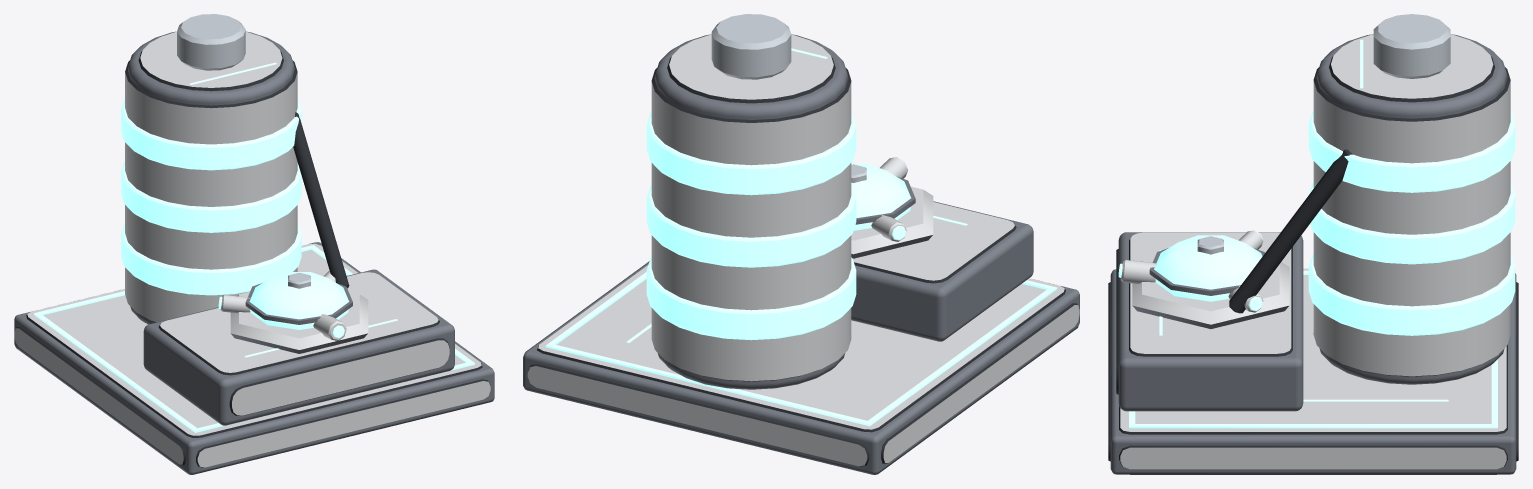
File: R4X_SlowTrapDeployer.fbx
3 views of the same model, side by side, from view 1: azimuth 30°, elevation 25°; view 2: azimuth 150°, elevation 25°; view 3: azimuth 270°, elevation 25° (orthographic). The views are drawn at different scales.
Parts seen in each view (by area): view 1: R4X_SlowTrapDeployer_Body, R4X_SlowTrapDeployer_Payload; view 2: R4X_SlowTrapDeployer_Body, R4X_SlowTrapDeployer_Payload; view 3: R4X_SlowTrapDeployer_Body, R4X_SlowTrapDeployer_Payload.
Part boxes in pixels (left/top/right/bottom): R4X_SlowTrapDeployer_Body: left=14, top=14, right=494, bottom=474; R4X_SlowTrapDeployer_Payload: left=218, top=271, right=368, bottom=353; R4X_SlowTrapDeployer_Body: left=523, top=14, right=1079, bottom=474; R4X_SlowTrapDeployer_Payload: left=851, top=157, right=933, bottom=258; R4X_SlowTrapDeployer_Body: left=1108, top=14, right=1518, bottom=474; R4X_SlowTrapDeployer_Payload: left=1118, top=230, right=1289, bottom=328.
Bounding box in the file's own units: 0.52 × 0.51 × 0.52.
